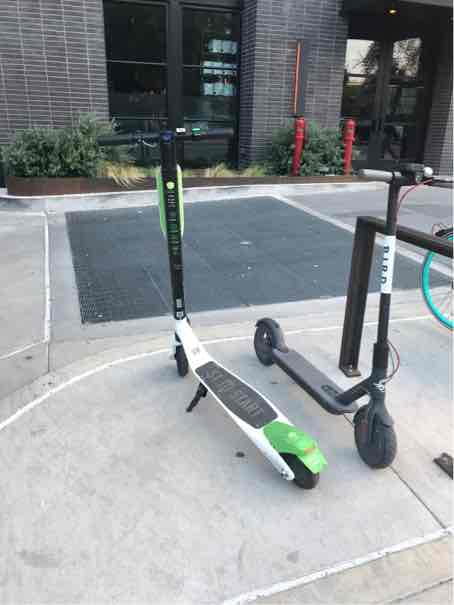scooter: (102, 132, 323, 495)
